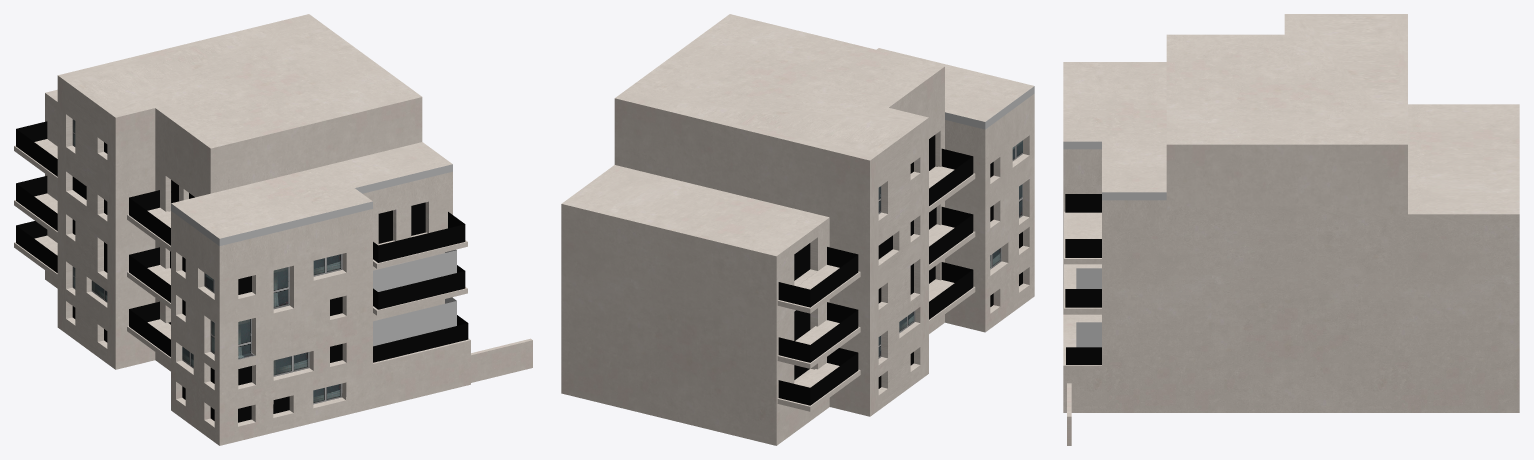
File: SM_Building_06.fbx
3 views of the same model, side by side, from view 1: azimuth 30°, elevation 25°; view 2: azimuth 150°, elevation 25°; view 3: azimuth 270°, elevation 25° (orthographic). The views are drawn at different scales.
Visible parts, largest first — view 1: SM_Building_06; view 2: SM_Building_06; view 3: SM_Building_06.
Boxes of the visible parts, <box> form: SM_Building_06: <box>14,14,532,445</box>; SM_Building_06: <box>561,14,1034,445</box>; SM_Building_06: <box>1063,14,1519,445</box>.
Bounding box in the file's own units: 26.17 × 20.02 × 30.83.
